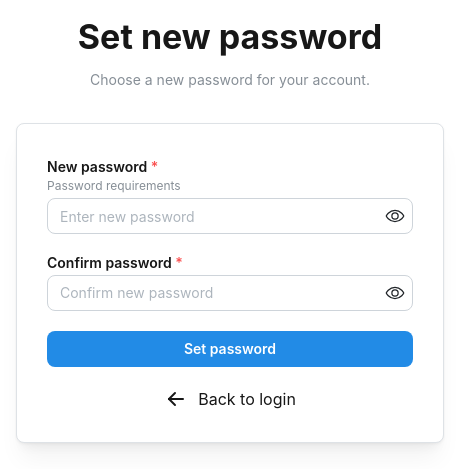
SetNewPasswordForm › submits the new password and redirects after a successful response
Type "NewPassword1!" into the password field with test id "set-new-password-input" at (230, 216), box [48,199,412,233]
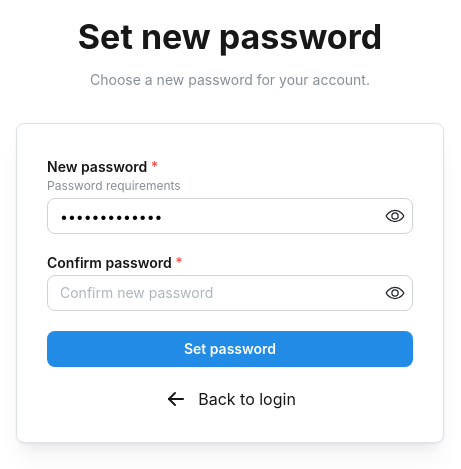
Type "NewPassword1!" into the password field with test id "set-new-password-confirm-input" at (230, 293), box [48,276,412,310]
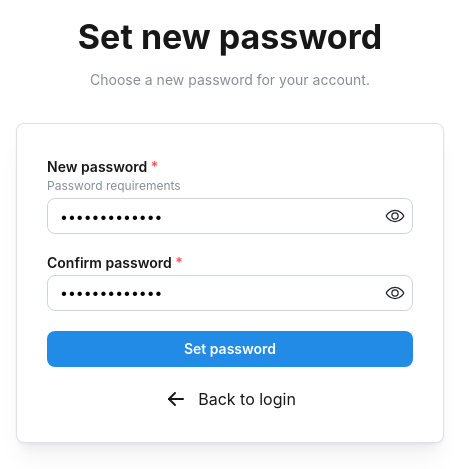
Submit the form with test id "set-new-password-form"
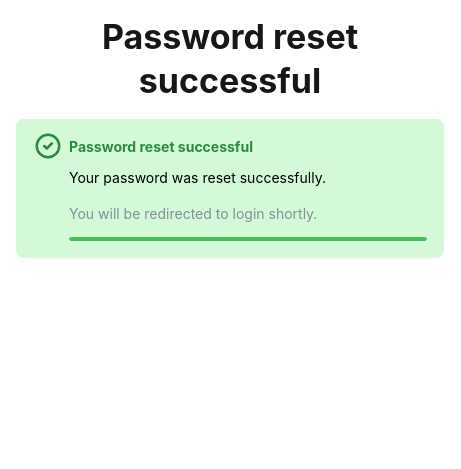
expect the heading "Password reset successful" is shown: met, box [102,16,358,101]
